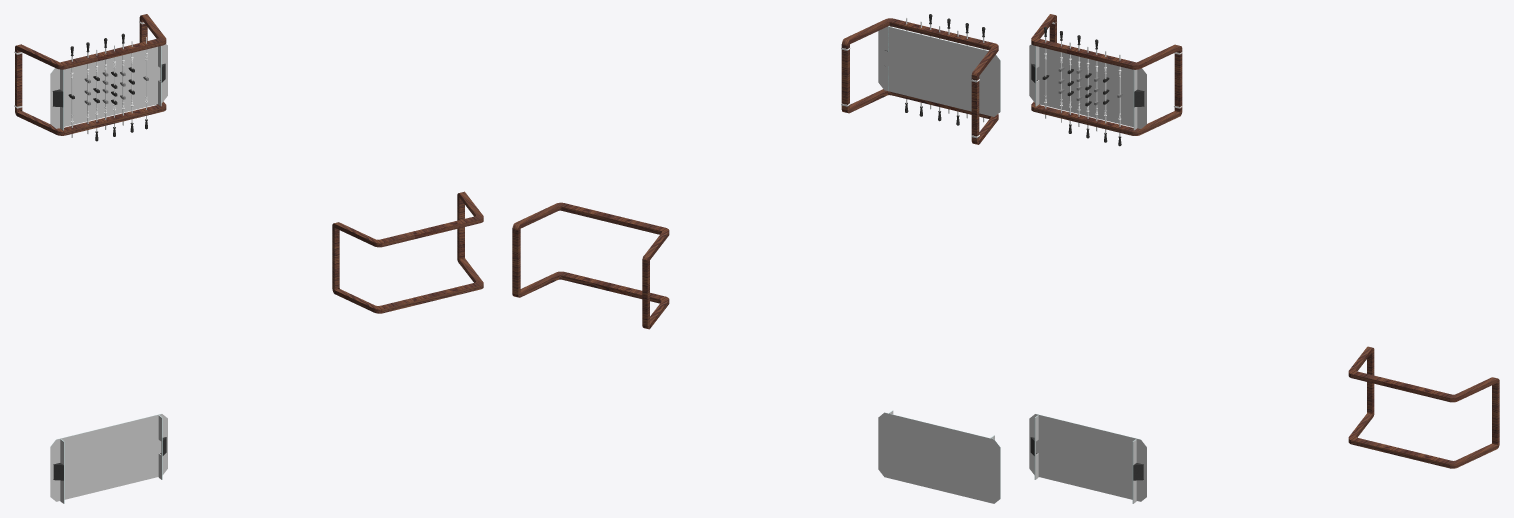
The model's file is mesa-bretda-pimbolim-berilo.glb.
3 renders of one model, left to right at view 1: azimuth 30°, elevation 25°; view 2: azimuth 150°, elevation 25°; view 3: azimuth 330°, elevation 25°, orthographic. The views are drawn at different scales.
Parts seen in each view (by area): view 1: ID1553, ID1553_1, ID1072, ID266; view 2: ID1553, ID1553_1, ID1072, ID266; view 3: ID1553, ID1553_1, ID1072, ID266.
Boxes of the visible parts, bbox=[...] form: ID1553: bbox=[50, 414, 167, 501]; ID1553_1: bbox=[50, 44, 167, 128]; ID1072: bbox=[332, 191, 483, 313]; ID266: bbox=[15, 14, 166, 135]; ID1553: bbox=[878, 412, 1000, 503]; ID1553_1: bbox=[878, 26, 1000, 116]; ID1072: bbox=[512, 202, 669, 329]; ID266: bbox=[841, 18, 998, 144]; ID1553: bbox=[1029, 414, 1146, 501]; ID1553_1: bbox=[1029, 44, 1146, 128]; ID1072: bbox=[1348, 346, 1499, 468]; ID266: bbox=[1031, 14, 1182, 135].
Size of the model in its own units: 240 by 232 by 31.74.
Materials: 8 (5 with a texture image).
